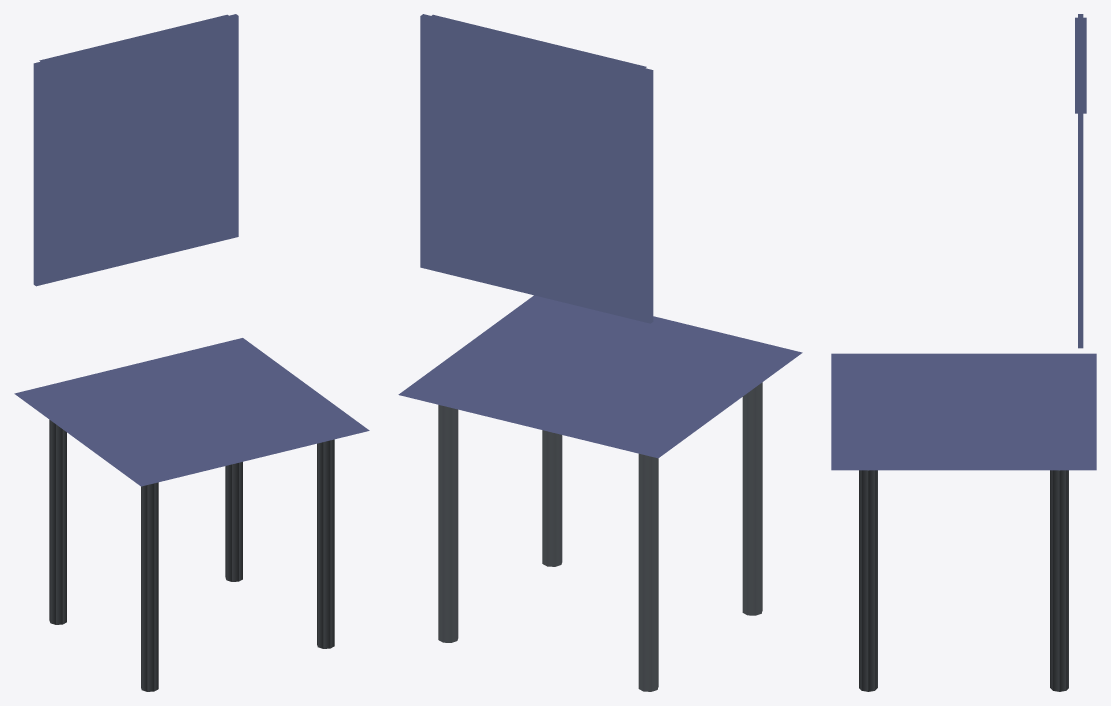
Rendered from garage-folding-chair.obj.
3 views of the same model, side by side, from view 1: azimuth 30°, elevation 25°; view 2: azimuth 150°, elevation 25°; view 3: azimuth 270°, elevation 25° (orthographic). The views are drawn at different scales.
Parts seen in each view (by area): view 1: garage-folding-chair; view 2: garage-folding-chair; view 3: garage-folding-chair.
Boxes of the visible parts, x1,y1,x2,y2 form: garage-folding-chair: (14, 14, 369, 691); garage-folding-chair: (398, 14, 802, 691); garage-folding-chair: (831, 14, 1096, 691).
Bounding box in the file's own units: 0.52 × 1.2 × 0.5.
